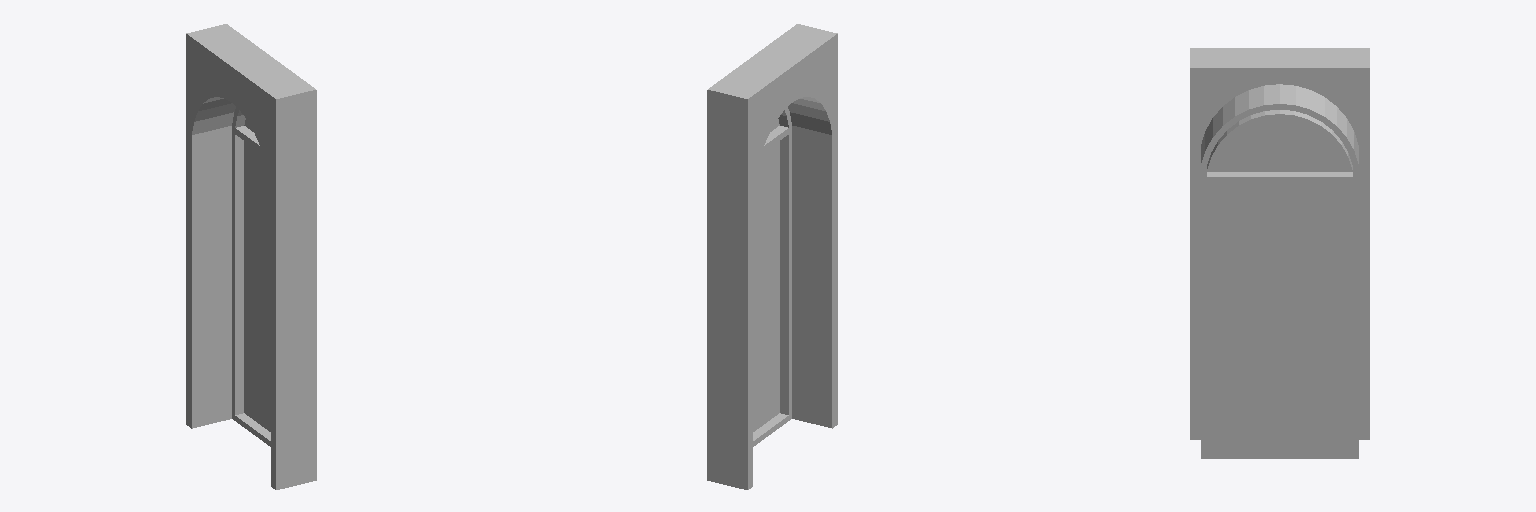
File: Door_3.obj
The picture shows the model from 3 angles: view 1: azimuth 30°, elevation 25°; view 2: azimuth 150°, elevation 25°; view 3: azimuth 270°, elevation 25°; orthographic projection.
Parts seen in each view (by area): view 1: Door3; view 2: Door3; view 3: Door3.
Part boxes in pixels (bbox=[...]): Door3: bbox=[186, 24, 316, 489]; Door3: bbox=[707, 24, 837, 489]; Door3: bbox=[1190, 48, 1369, 458].
Bounding box in the file's own units: 0.3971 × 3 × 1.25.